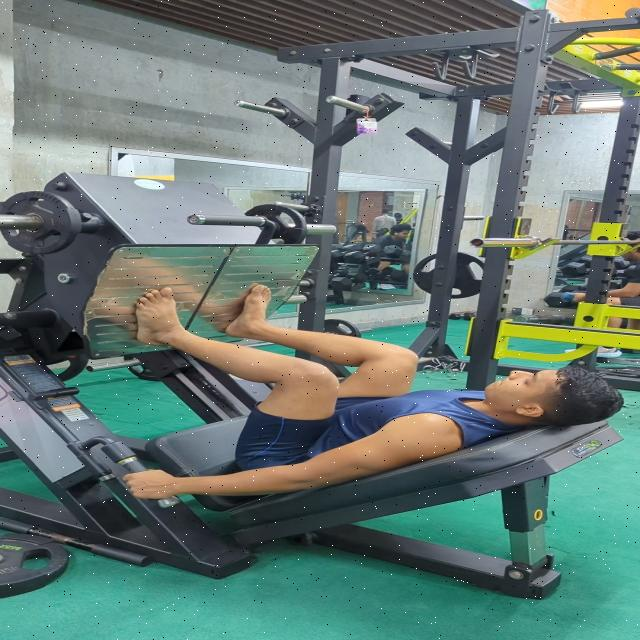Normal_LegPress: (77, 277, 631, 515)
